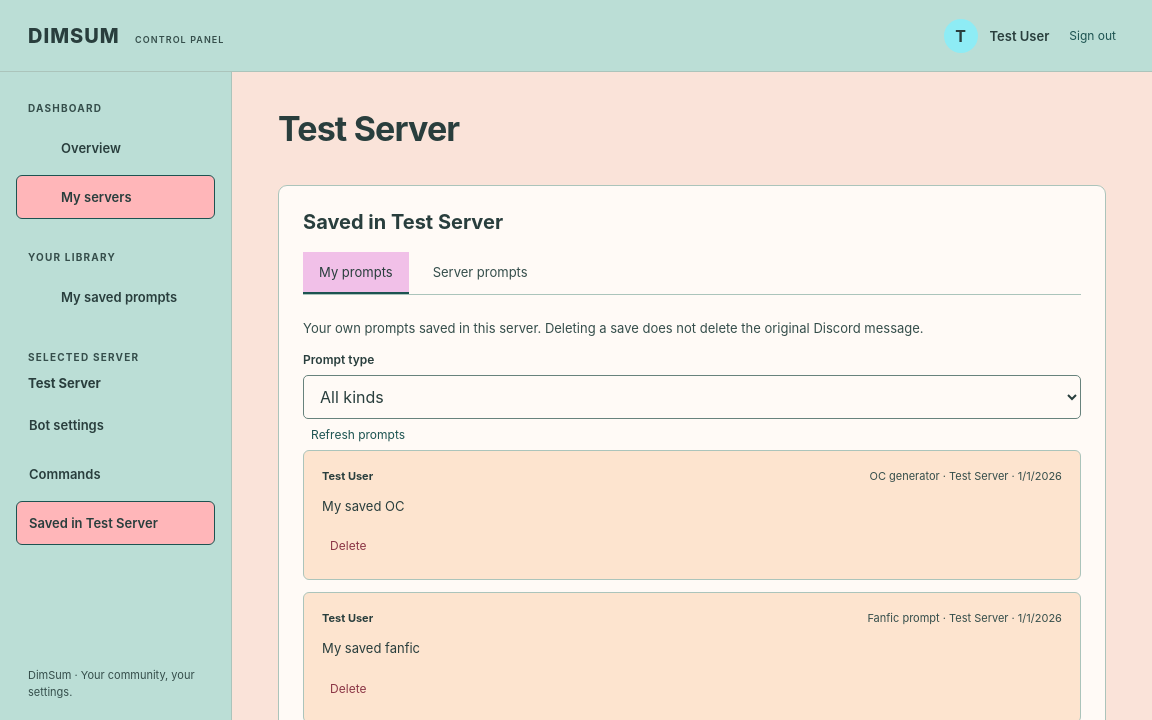
server prompt tabs filter and delete own saves and other members’ server saves
The width and height of the screenshot is (1152, 720).
Expected: the text "My saved OC" is shown, x1=322 y1=498 x2=404 y2=514
Expected: the text "My private DM prompt" is not shown
Step 1. Select "OC generator" in the dropdown labelled "Prompt type" → [692, 397], box x1=303 y1=375 x2=1081 y2=419
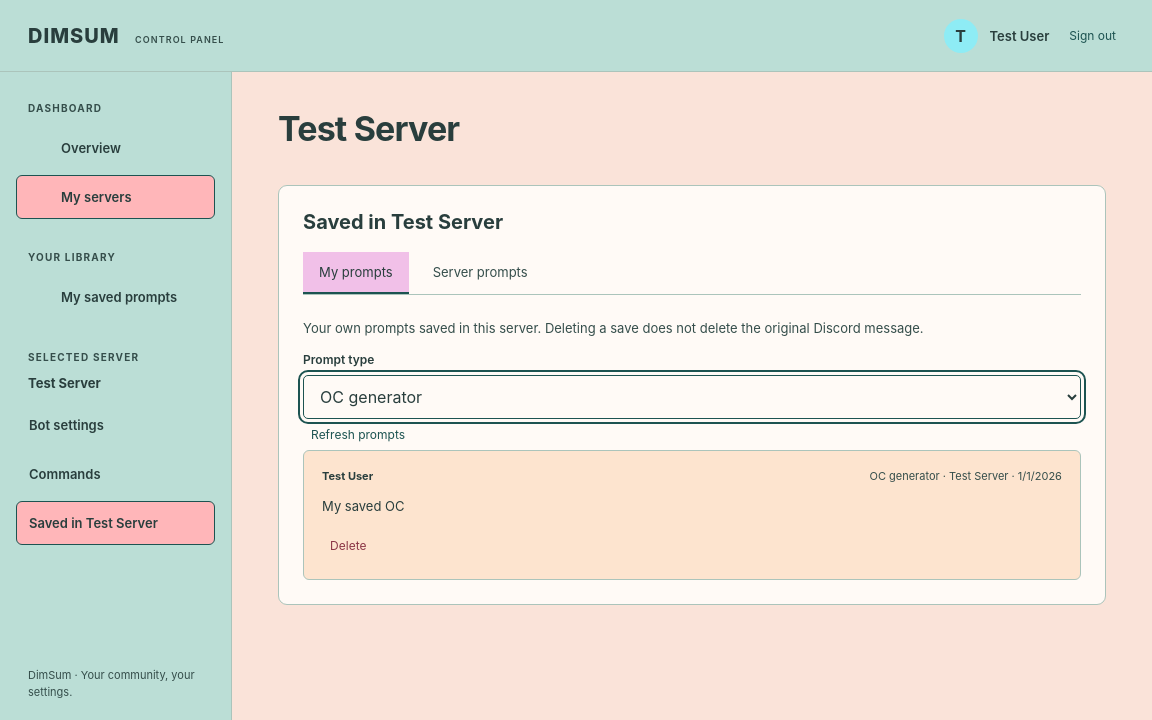
Expected: the text "My saved fanfic" is gone
Step 2. Click the button with aria-label "Delete saved prompt by Test User" → [348, 546], box x1=322 y1=530 x2=374 y2=562
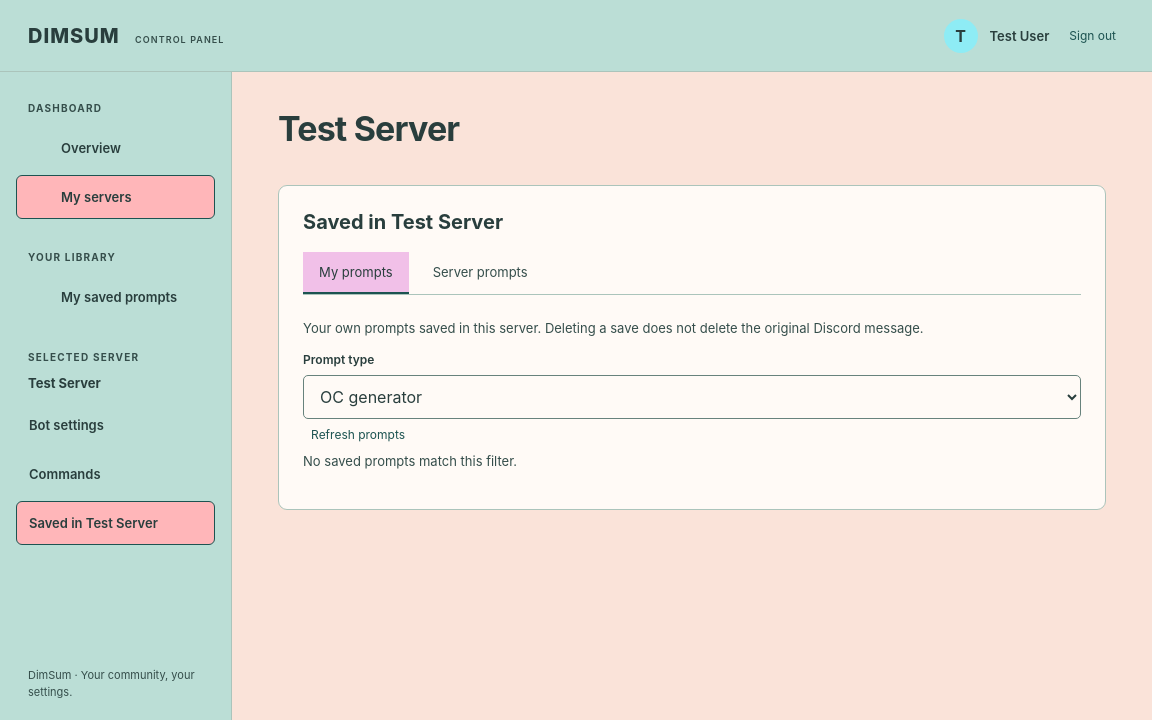
Expected: the text "My saved OC" is gone
Step 3. Click the tab "Server prompts" → [480, 273], box x1=417 y1=252 x2=544 y2=294
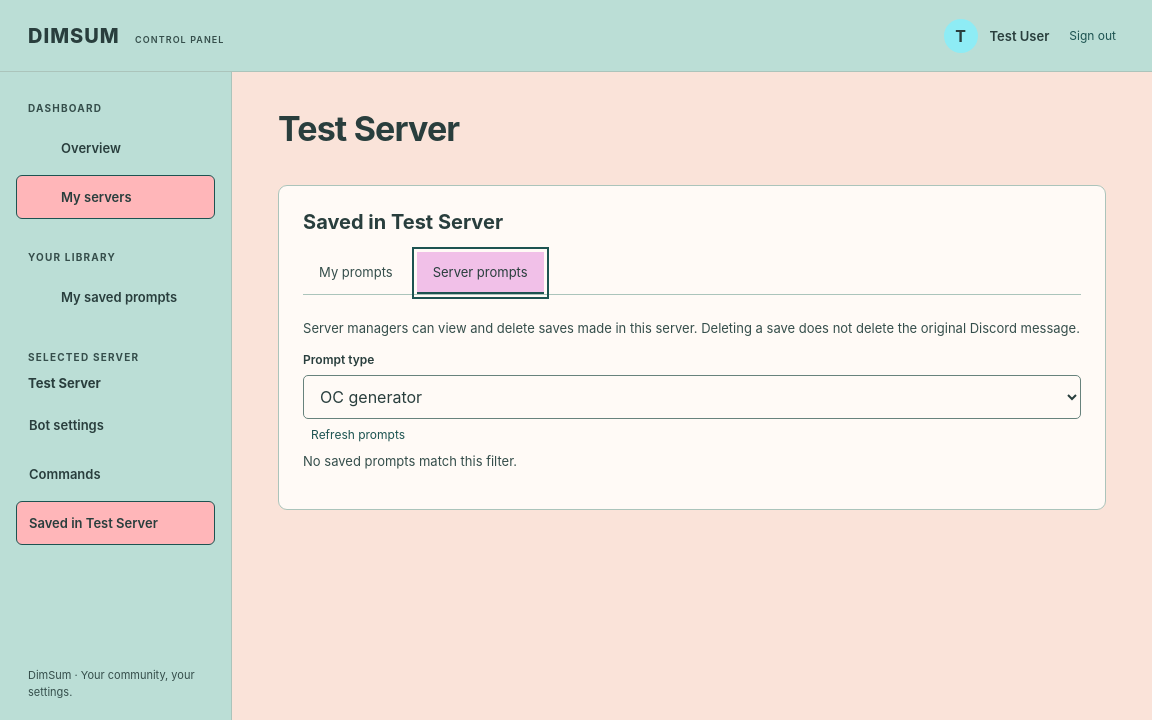
Step 4. Select "Fanfic prompt" in the dropdown labelled "Prompt type" → [692, 397], box x1=303 y1=375 x2=1081 y2=419
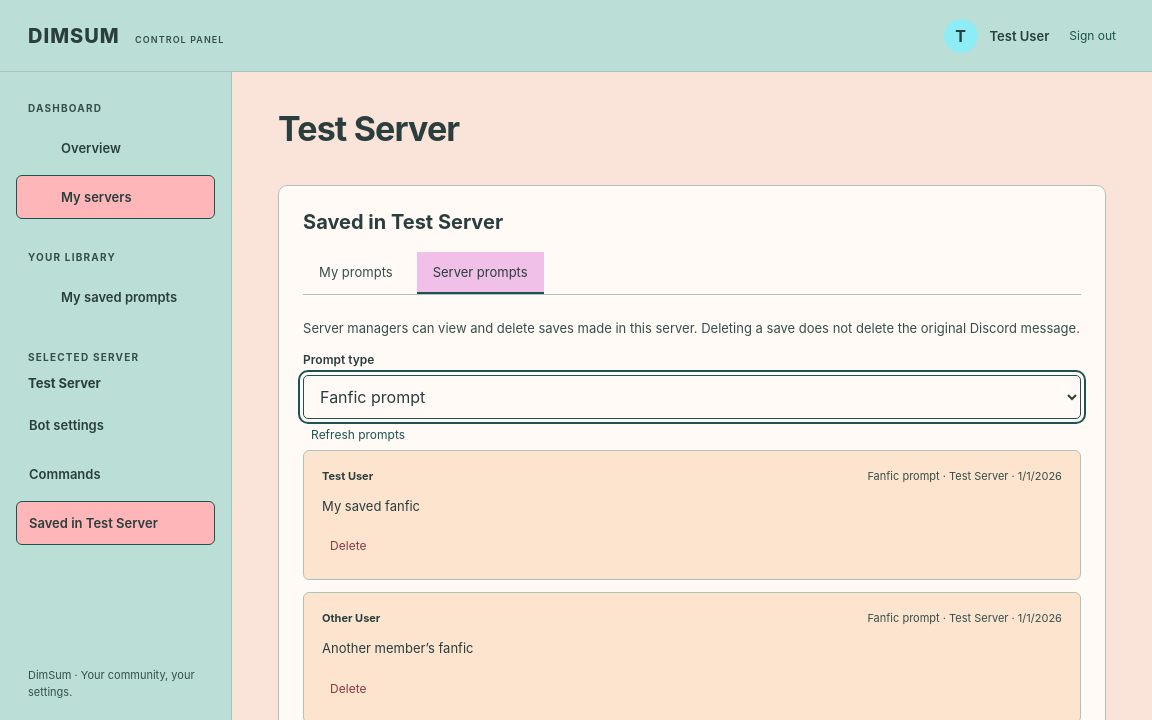
Expected: the text "Another member’s fanfic" is shown, x1=322 y1=640 x2=474 y2=656
Step 5. Click the button with aria-label "Delete saved prompt by Other User" → [348, 688], box x1=322 y1=673 x2=374 y2=704
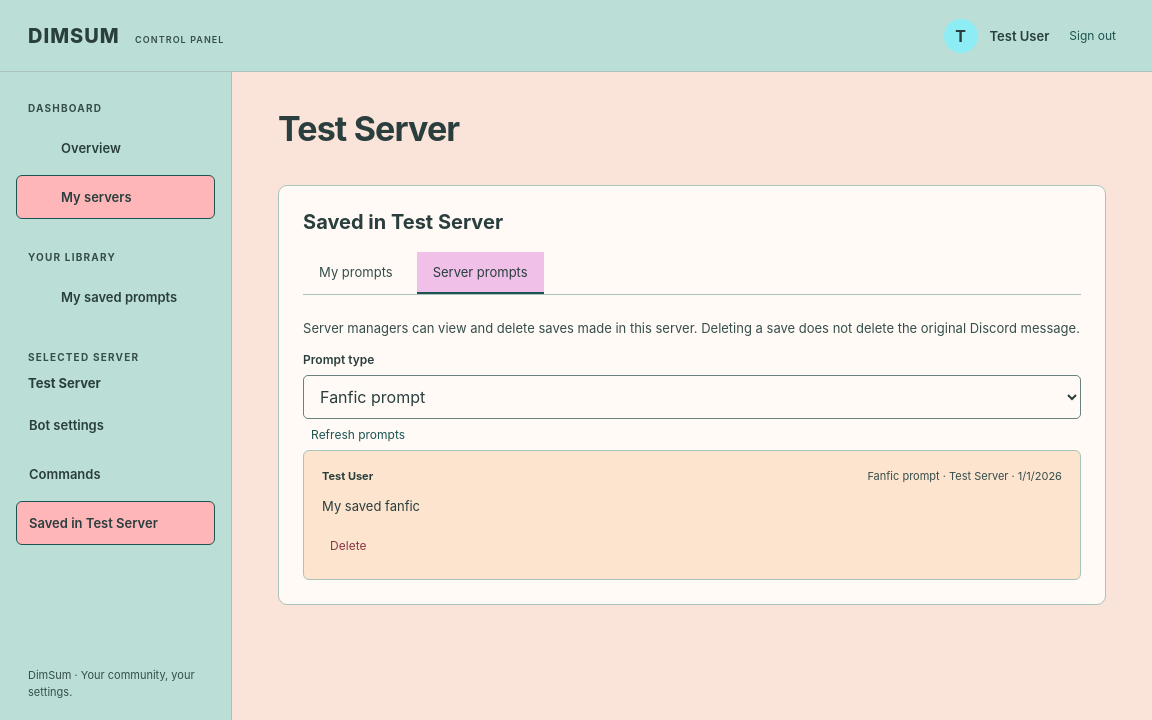
Expected: the text "Another member’s fanfic" is gone
Step 6. Click the link "My saved prompts" → [119, 297], box x1=61 y1=289 x2=177 y2=305
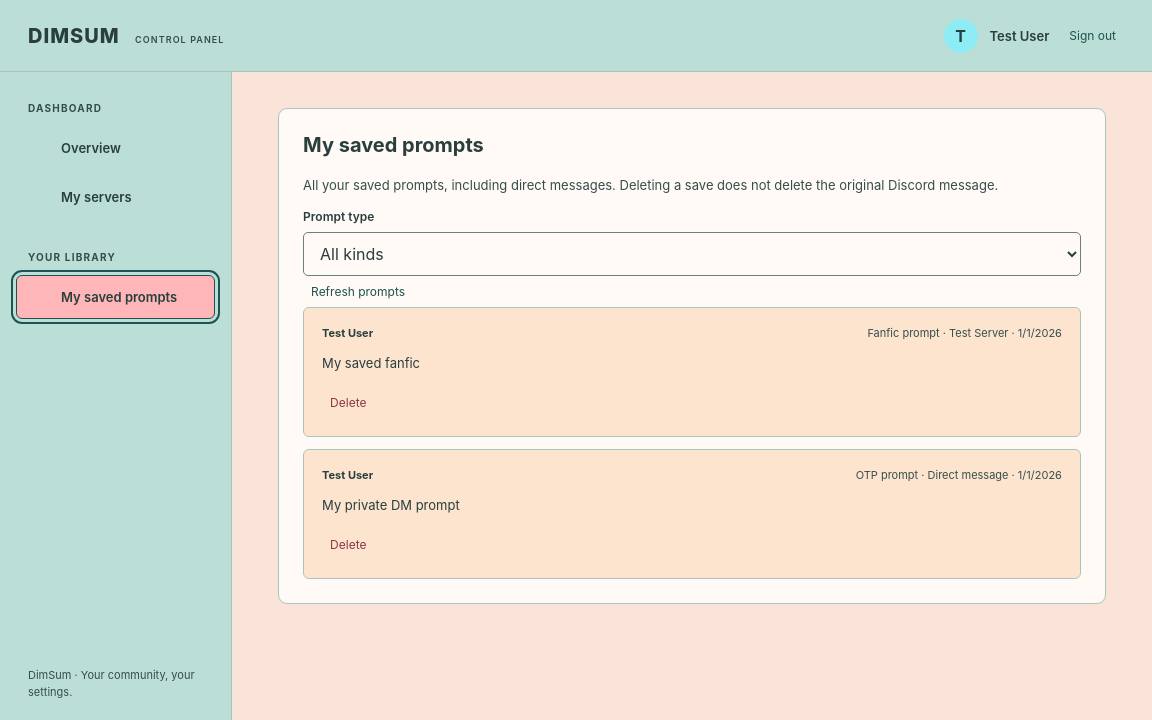
Expected: the text "My private DM prompt" is shown, x1=322 y1=497 x2=460 y2=513
